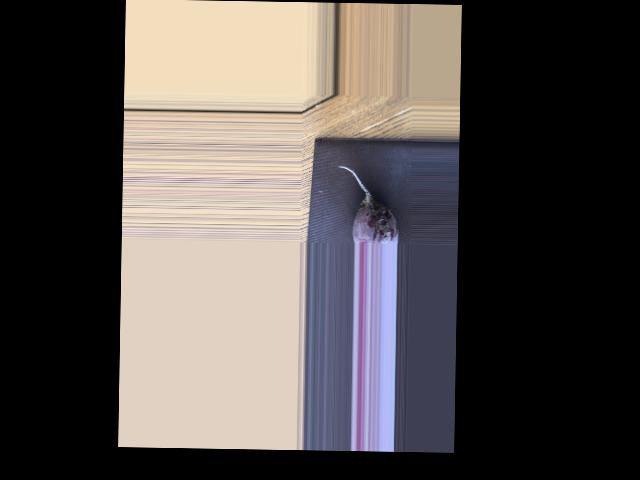beet: (337, 165, 399, 243)
